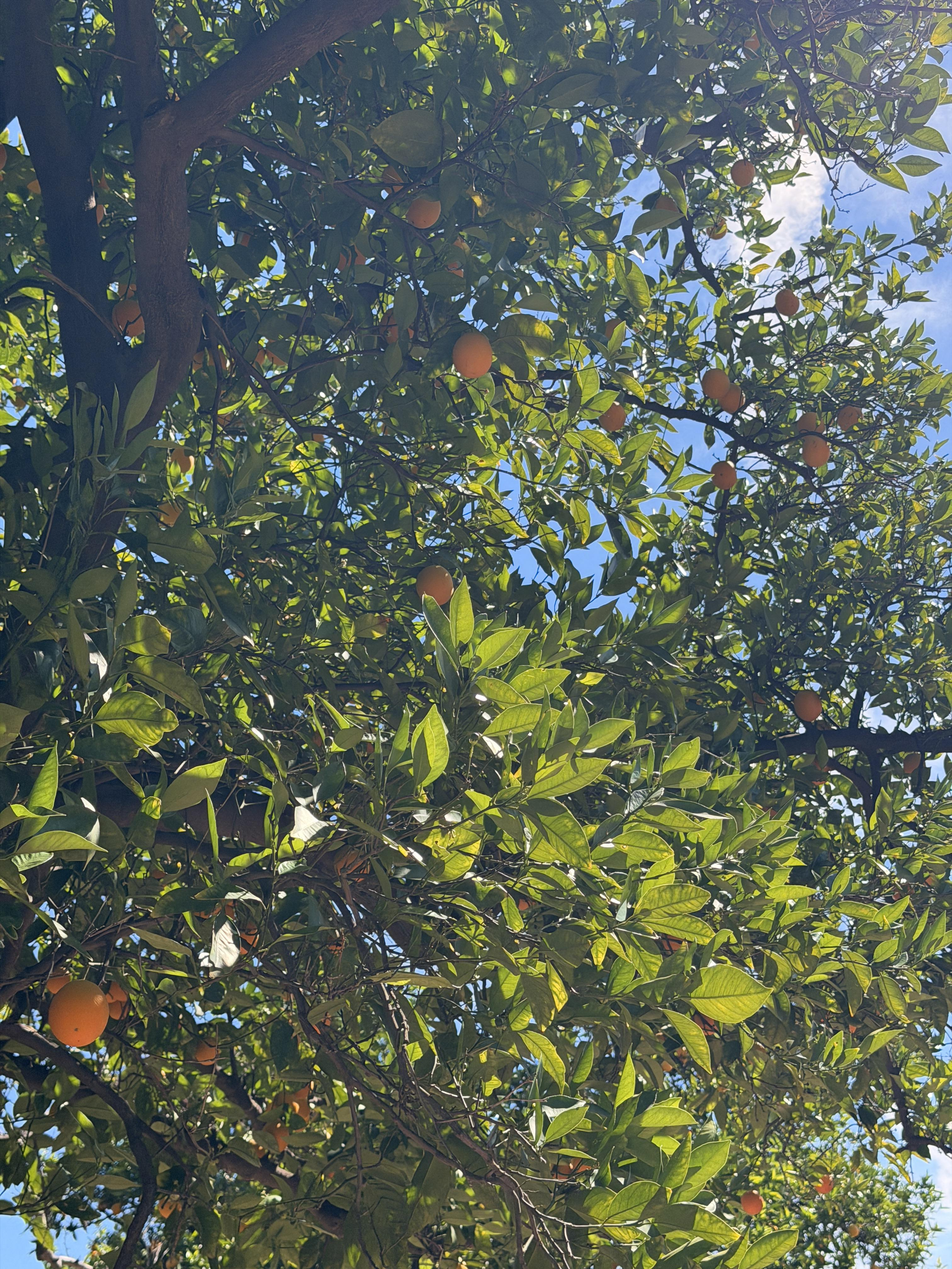orange: (48, 980, 110, 1047), (453, 332, 493, 378), (416, 565, 454, 605), (335, 845, 370, 883), (379, 307, 414, 344), (111, 299, 144, 338), (405, 196, 441, 229), (262, 1119, 289, 1153), (794, 690, 822, 722), (802, 436, 830, 468), (701, 369, 730, 399), (718, 382, 744, 415), (598, 401, 626, 431), (193, 348, 227, 371), (730, 159, 756, 188), (338, 244, 366, 270), (157, 500, 183, 528), (238, 921, 259, 955), (837, 405, 863, 431), (775, 289, 800, 316), (195, 1039, 219, 1065), (797, 411, 825, 433), (171, 447, 194, 473), (273, 1092, 299, 1114), (741, 1190, 763, 1215), (742, 33, 760, 60), (159, 1196, 181, 1218), (108, 1000, 132, 1020), (46, 975, 71, 994), (706, 218, 728, 239), (109, 981, 129, 1001), (604, 318, 622, 340), (654, 195, 678, 211), (815, 1174, 833, 1194), (904, 754, 921, 773), (297, 1099, 310, 1123), (849, 1225, 859, 1236)
